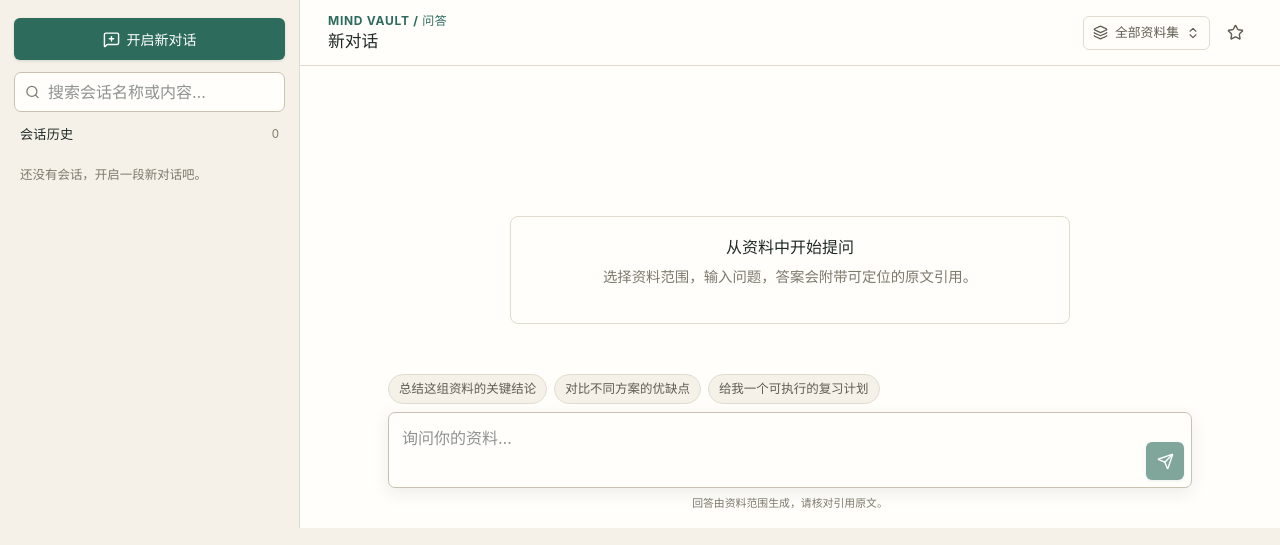
Test: ChatPage › fills the composer and puts the caret at the end when a follow-up is clicked
In the text box named "输入问题": (768, 450) 396,420 -> 1139,480, type "Kafka 用在什么场景？"
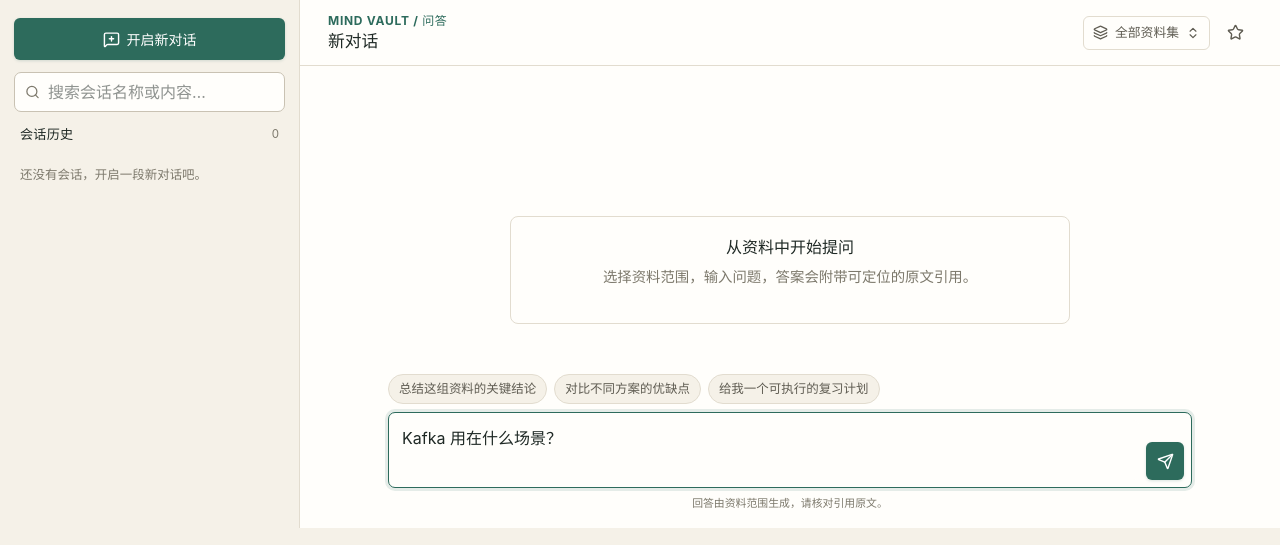
Click the button named "发送问题": (1165, 461) 1146,442 -> 1184,480
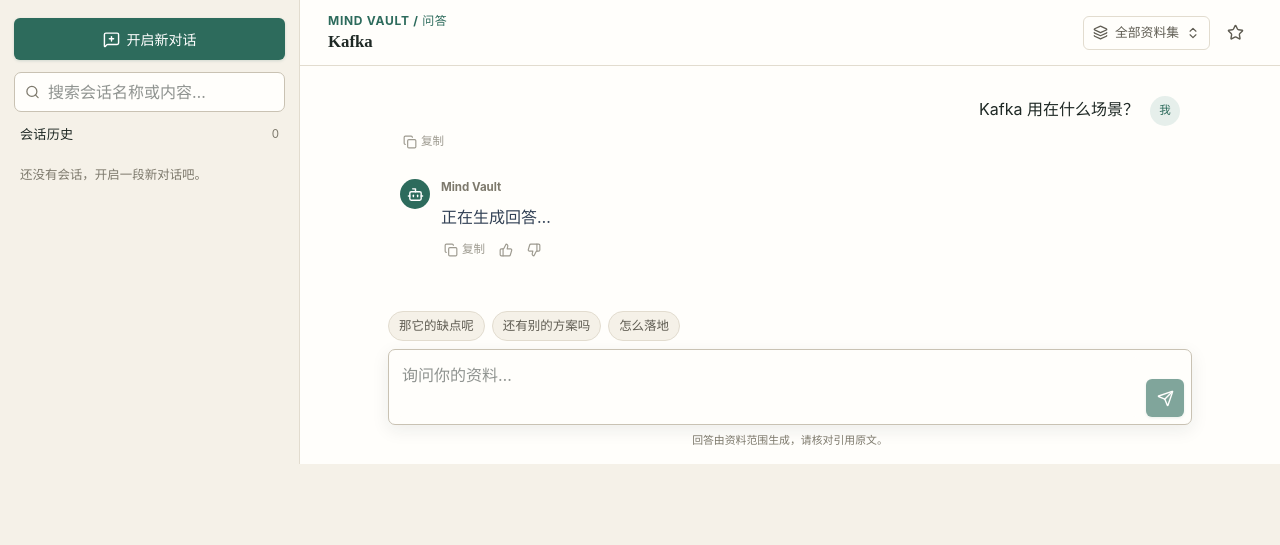
Click the button "还有别的方案吗": (546, 326) 492,311 -> 601,341
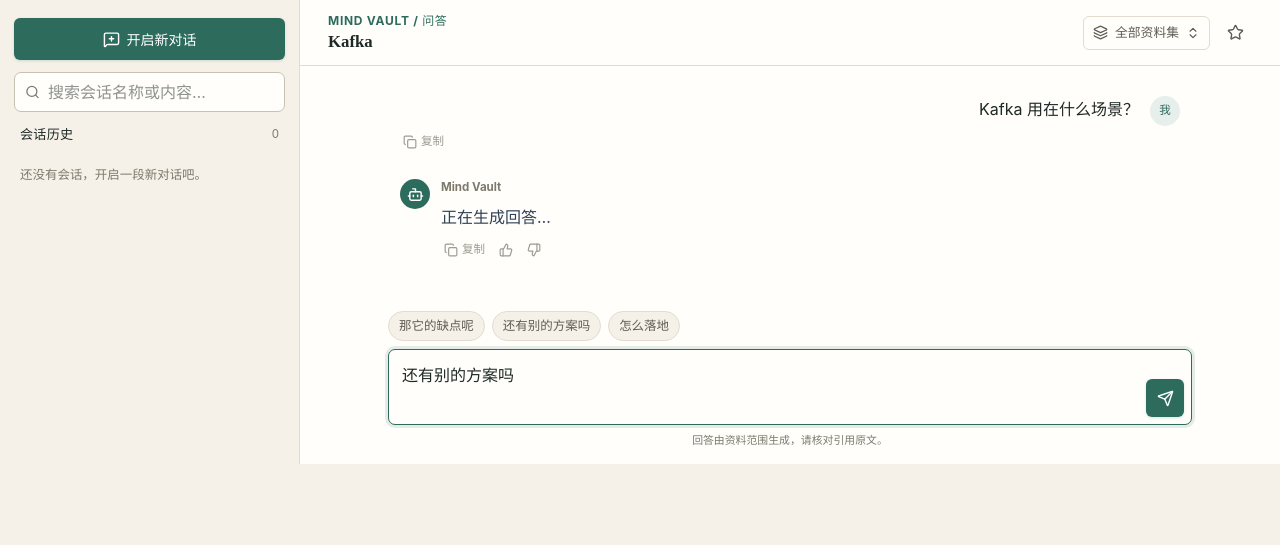
expect the text box named "输入问题" holds "还有别的方案吗": met, box 396,357 -> 1139,417
